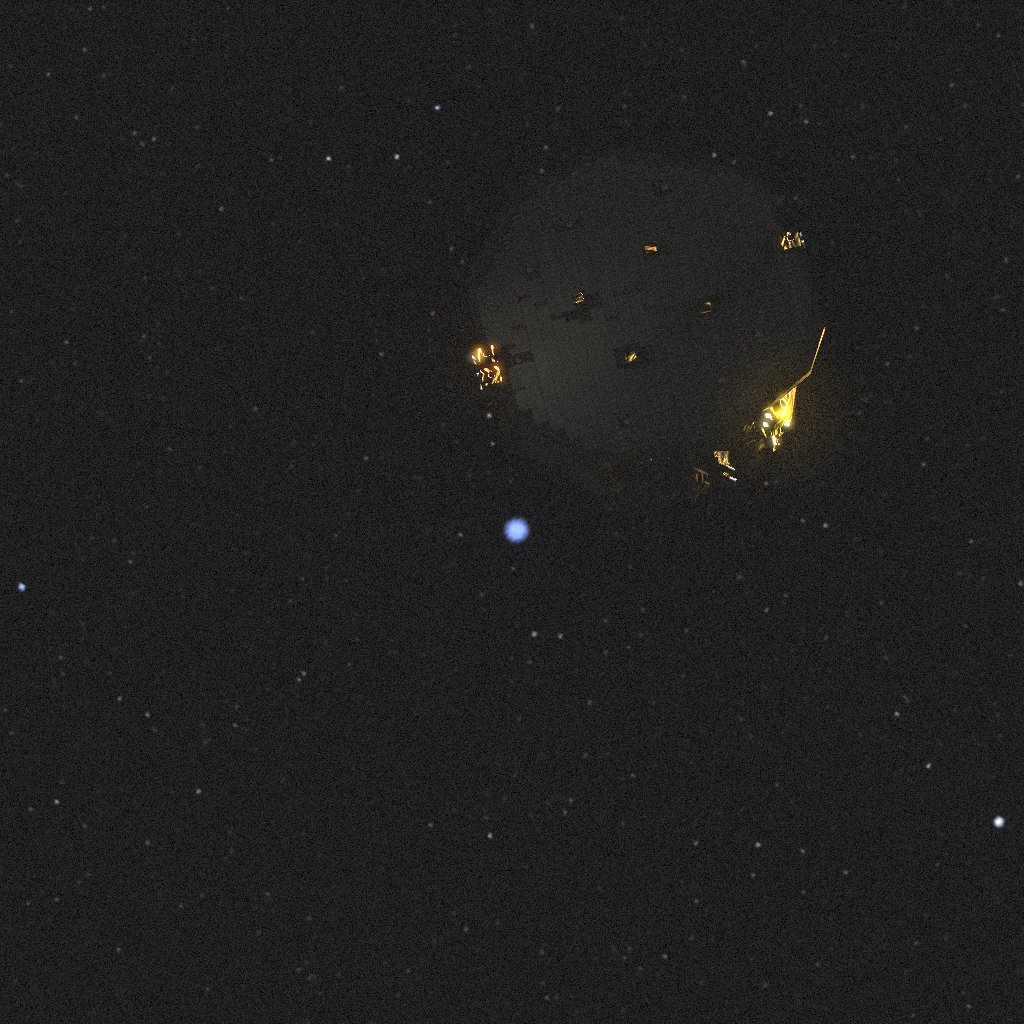lisa_pathfinder: (465, 147, 825, 519)
